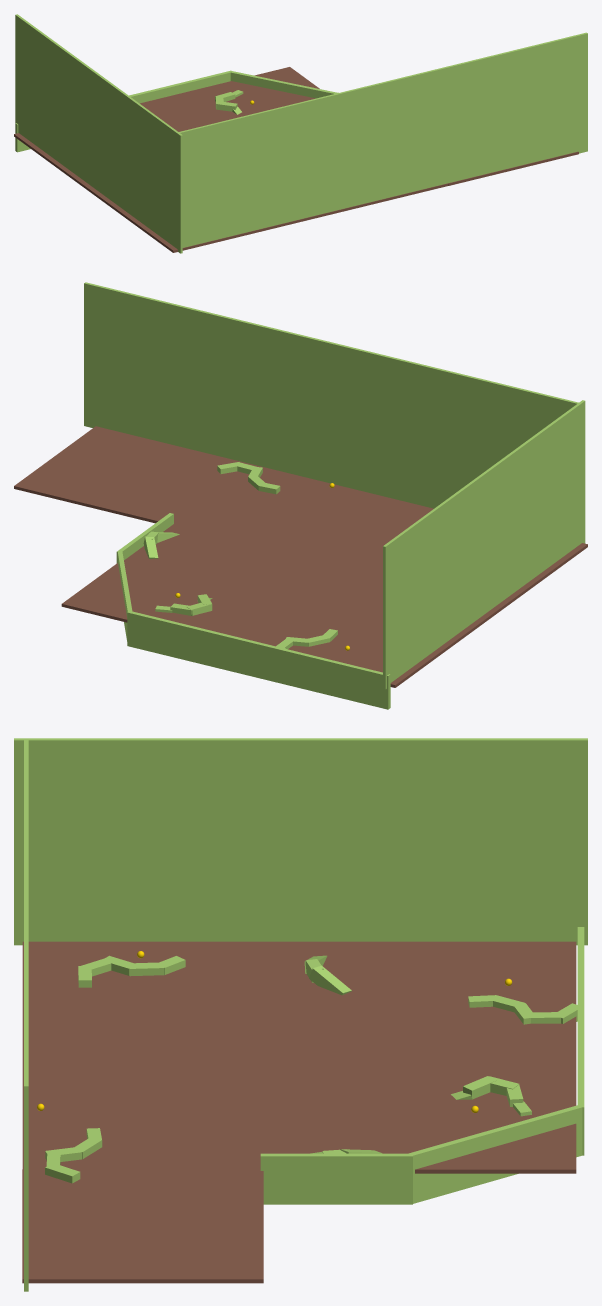
File: Phase2.fbx
3 views of the same model, one above another, from view 1: azimuth 30°, elevation 25°; view 2: azimuth 150°, elevation 25°; view 3: azimuth 270°, elevation 25° (orthographic). The views are drawn at different scales.
Visible parts, largest first — view 1: Cube__32_, Cube__36__1, Cube__36_, Cube__41_, Cube__43_, Cube__38_; view 2: Cube__32_, Cube__36_, Cube__36__1, Cube__38_, Cube__41_, Cube__42_; view 3: Cube__36__1, Cube__36_, Cube__38_, Cube__42_, Cube__43_, Cube__32_, Cube__41_.
Part boxes in pixels (box(x1,y1,x2,y2)): Cube__32_: box(178, 32, 587, 247); Cube__36__1: box(15, 14, 182, 253); Cube__36_: box(14, 67, 448, 252); Cube__41_: box(15, 70, 232, 152); Cube__43_: box(230, 71, 337, 98); Cube__38_: box(448, 151, 578, 185); Cube__32_: box(84, 282, 578, 508); Cube__36_: box(61, 464, 587, 687); Cube__36__1: box(383, 400, 585, 689); Cube__38_: box(14, 426, 251, 523); Cube__41_: box(127, 611, 390, 709); Cube__42_: box(116, 513, 173, 563); Cube__36__1: box(14, 738, 587, 945); Cube__36_: box(22, 941, 576, 1173); Cube__38_: box(22, 1169, 263, 1283); Cube__42_: box(260, 1153, 412, 1204); Cube__43_: box(409, 1105, 582, 1203); Cube__32_: box(24, 740, 28, 1291); Cube__41_: box(577, 927, 584, 1155).
Size of the model in its own units: 18408 by 5729 by 12687.
